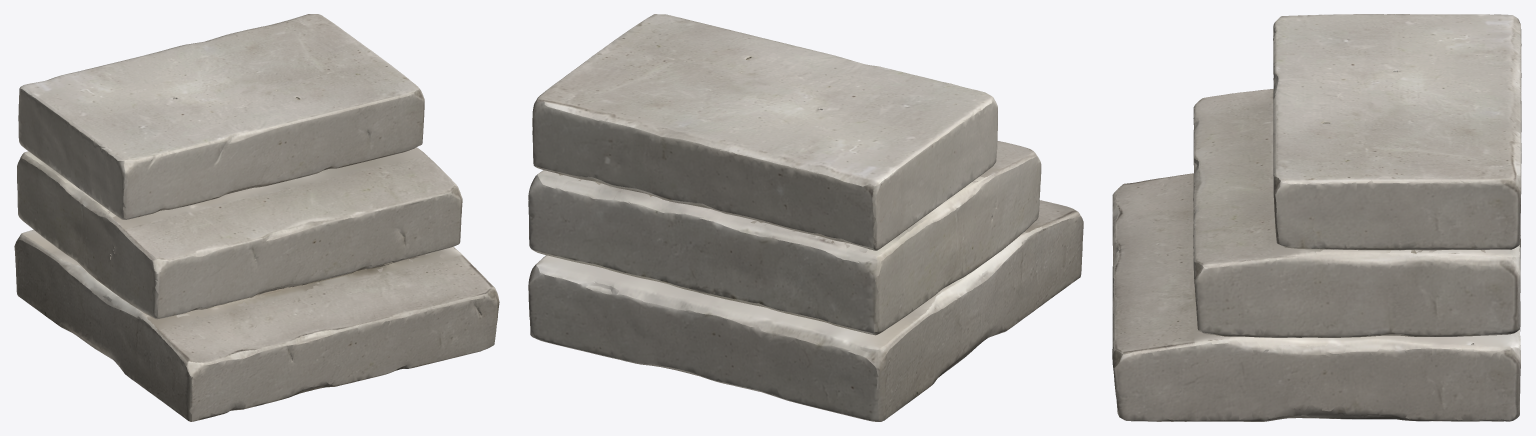
The model's file is stone-steps.glb.
3 views of the same model, side by side, from view 1: azimuth 30°, elevation 25°; view 2: azimuth 150°, elevation 25°; view 3: azimuth 270°, elevation 25° (orthographic). The views are drawn at different scales.
Visible parts, largest first — view 1: geometry_0; view 2: geometry_0; view 3: geometry_0.
Boxes of the visible parts, x1,y1,x2,y2 form: geometry_0: (14, 14, 499, 421); geometry_0: (528, 14, 1083, 421); geometry_0: (1112, 14, 1521, 421).
Size of the model in its own units: 0.9 by 0.586 by 0.8994.
1 material, 1 textured.
